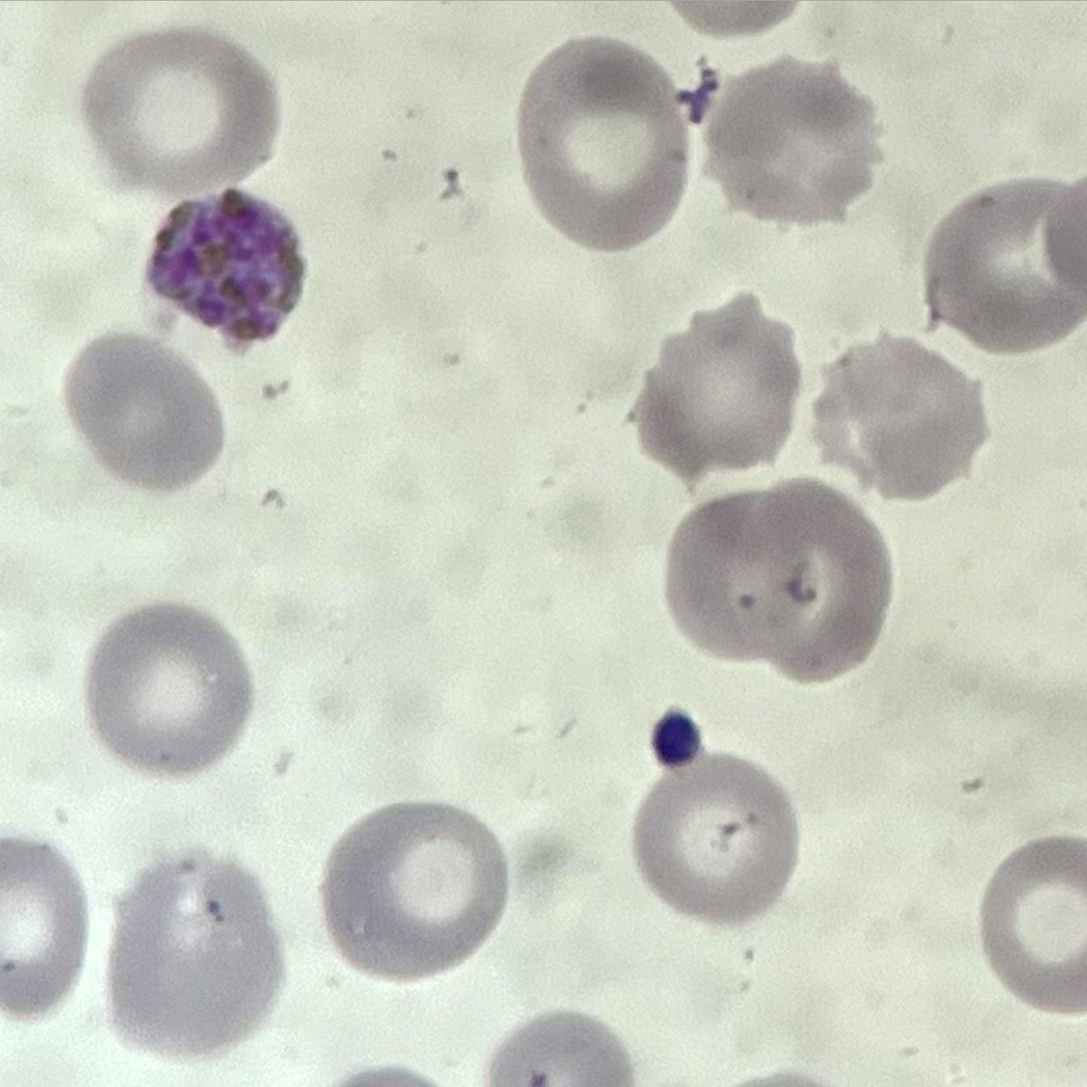Infected: (143, 184, 307, 361)
Uninfected: (518, 39, 692, 253), (105, 848, 280, 1057), (313, 799, 512, 978), (621, 298, 796, 487), (812, 327, 994, 507), (737, 473, 893, 681), (89, 28, 278, 195), (84, 600, 253, 779), (626, 754, 796, 928), (925, 168, 1087, 348), (712, 55, 882, 224), (57, 335, 226, 491), (661, 503, 825, 663), (985, 835, 1087, 1032)
